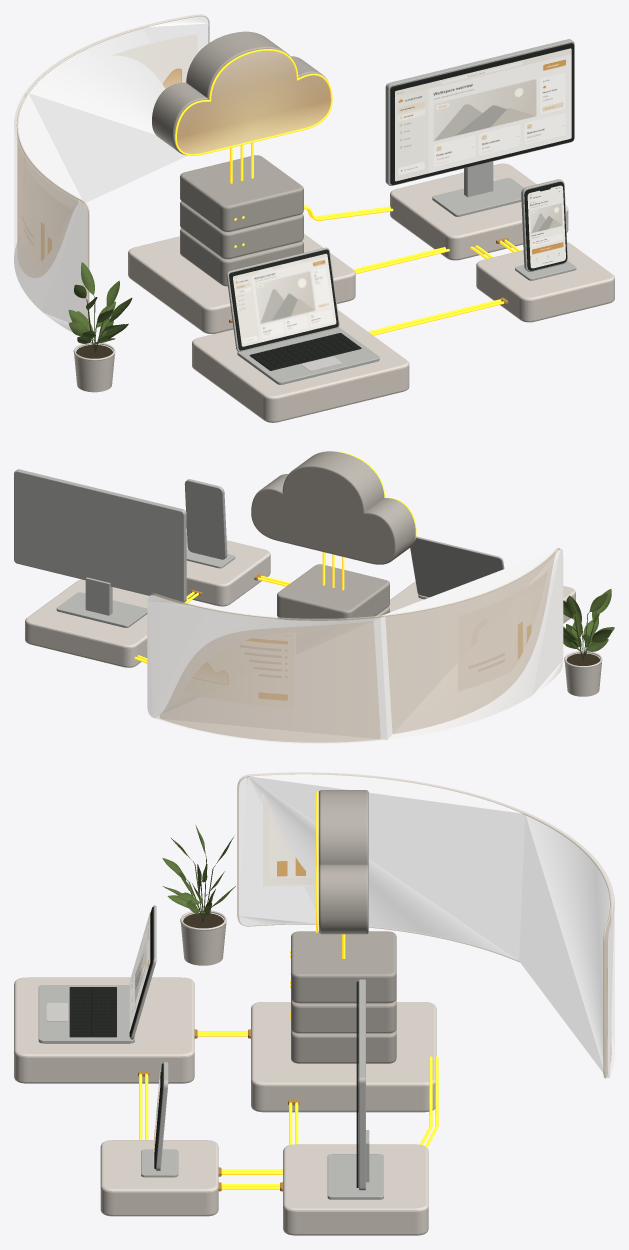
The model's file is cloud.2ed43583bd29.glb.
3 renders of one model, top to bottom at view 1: azimuth 30°, elevation 25°; view 2: azimuth 150°, elevation 25°; view 3: azimuth 270°, elevation 25°, orthographic. The views are drawn at different scales.
Bounding box in the file's own units: 14.86 × 6.05 × 12.
22 materials, 6 textured.
